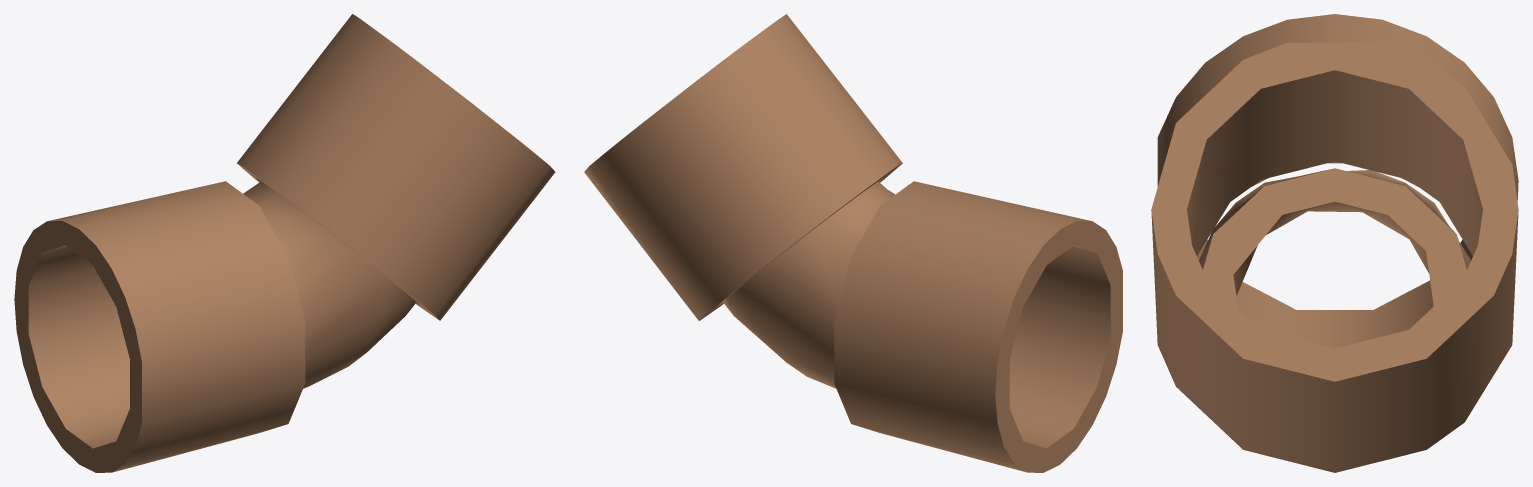
Rendered from HID-CNX-002_lod1.glb.
3 views of the same model, side by side, from view 1: azimuth 30°, elevation 25°; view 2: azimuth 150°, elevation 25°; view 3: azimuth 270°, elevation 25° (orthographic). The views are drawn at different scales.
Visible parts, largest first — view 1: HID-CNX-002_bolsa1, HID-CNX-002_bolsa2, HID-CNX-002_curva; view 2: HID-CNX-002_bolsa1, HID-CNX-002_bolsa2, HID-CNX-002_curva; view 3: HID-CNX-002_bolsa2, HID-CNX-002_bolsa1, HID-CNX-002_curva.
Boxes of the visible parts, bbox=[...] form: HID-CNX-002_bolsa1: bbox=[14, 181, 305, 472]; HID-CNX-002_bolsa2: bbox=[237, 14, 555, 320]; HID-CNX-002_curva: bbox=[243, 181, 416, 388]; HID-CNX-002_bolsa1: bbox=[834, 181, 1122, 472]; HID-CNX-002_bolsa2: bbox=[584, 14, 902, 320]; HID-CNX-002_curva: bbox=[723, 181, 894, 388]; HID-CNX-002_bolsa2: bbox=[1151, 42, 1518, 472]; HID-CNX-002_bolsa1: bbox=[1157, 14, 1518, 348]; HID-CNX-002_curva: bbox=[1199, 168, 1470, 307].
Bounding box in the file's own units: 0.0626 × 0.0475 × 0.031.
